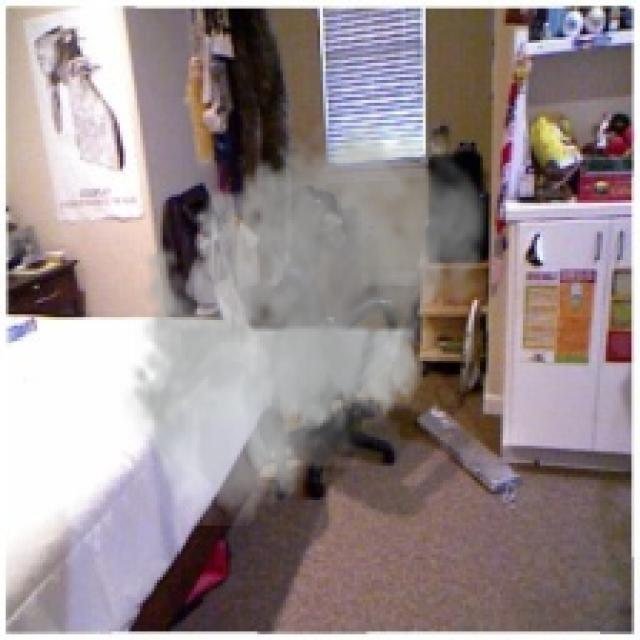Smoke: (120, 108, 494, 526)
